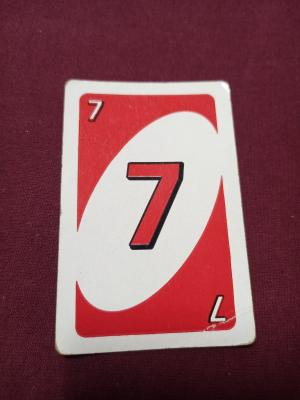num_7: (110, 156, 191, 259), (204, 288, 231, 331), (77, 91, 108, 128)
